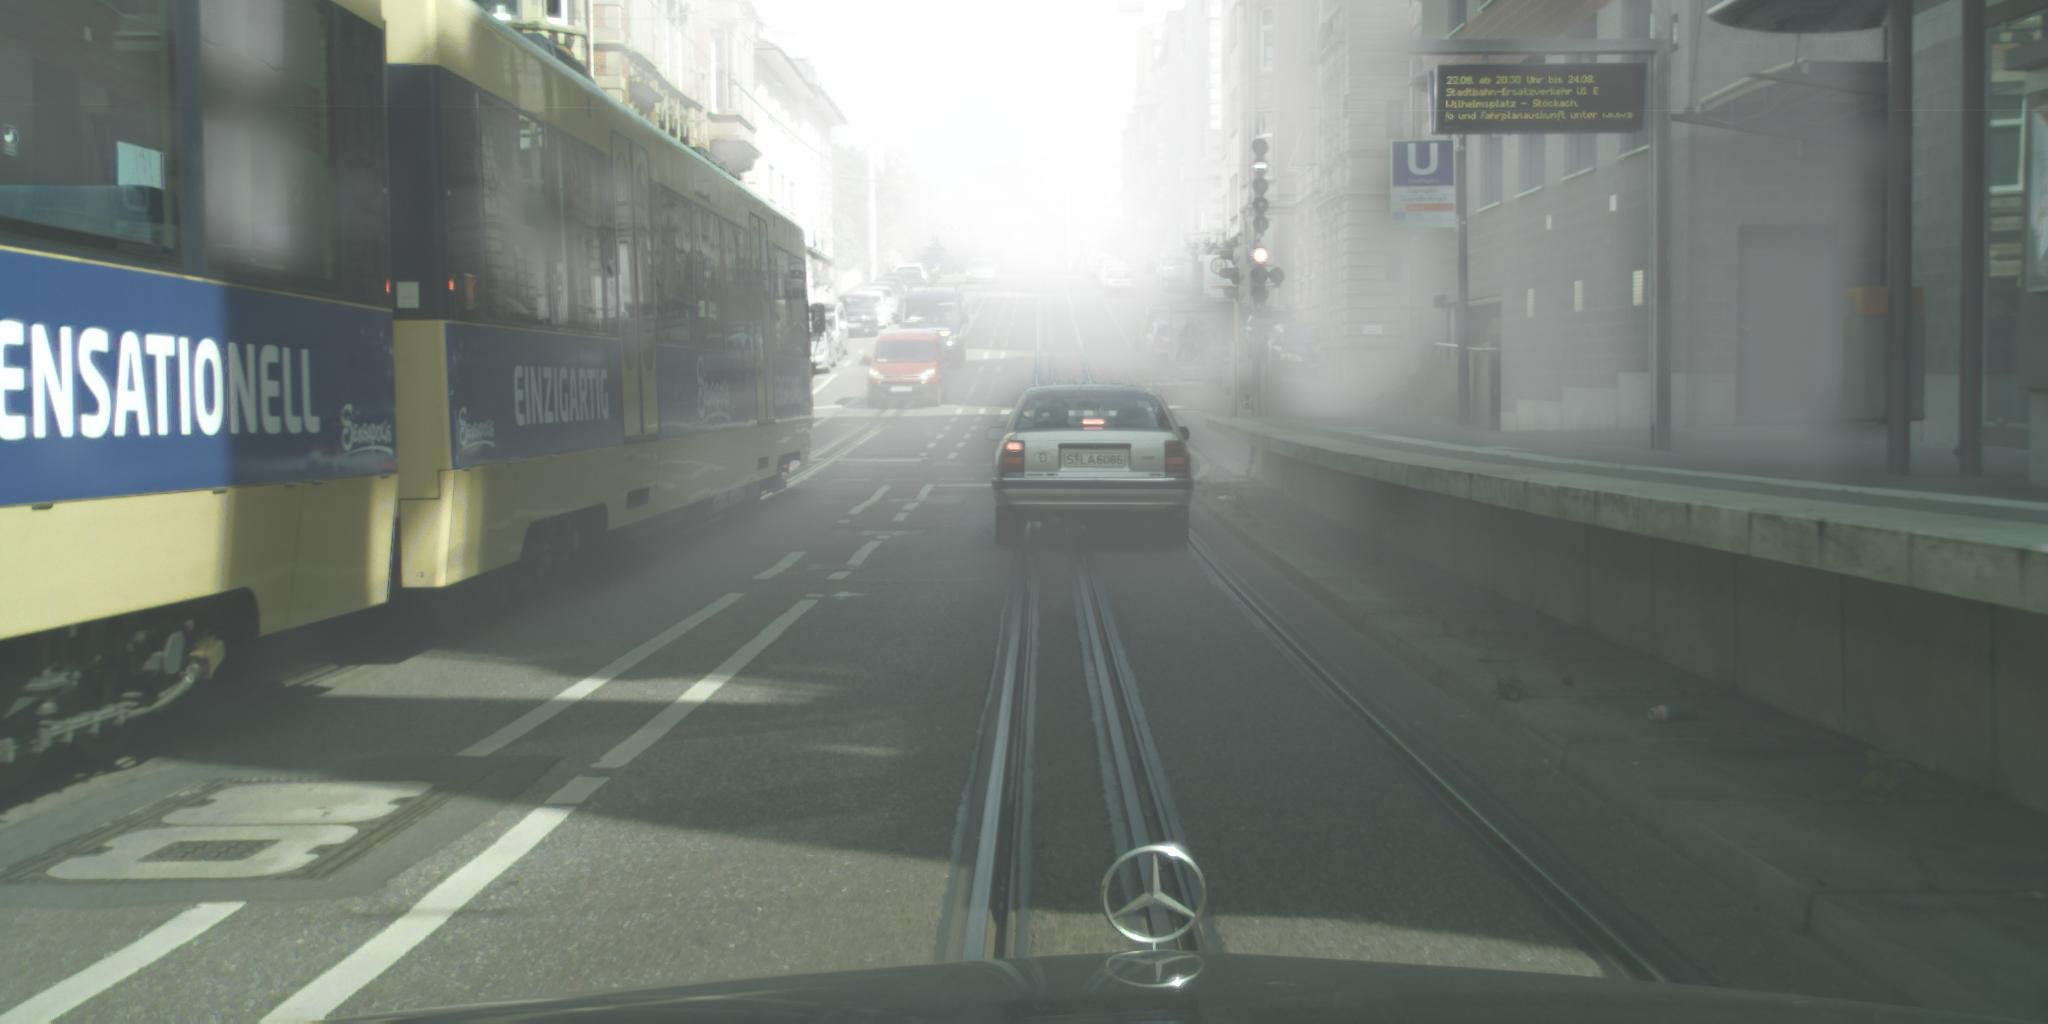car: (986, 384, 1194, 552), (862, 334, 950, 411), (893, 287, 970, 370), (1266, 324, 1320, 384), (1238, 312, 1304, 360), (802, 302, 850, 363), (1132, 307, 1177, 354), (833, 296, 879, 340), (1139, 321, 1176, 368), (849, 293, 893, 330), (803, 329, 839, 376), (856, 287, 899, 321), (1102, 270, 1138, 300), (964, 259, 1000, 287), (1155, 257, 1187, 287), (897, 263, 935, 287), (916, 259, 946, 285), (1098, 264, 1128, 290), (870, 282, 903, 306), (1143, 251, 1173, 276), (1089, 256, 1121, 280), (925, 249, 952, 276), (921, 253, 950, 276), (897, 272, 927, 293), (1097, 261, 1126, 282), (918, 256, 946, 277), (1037, 263, 1066, 278), (1083, 253, 1102, 276), (883, 274, 906, 293), (882, 277, 906, 293), (1078, 259, 1091, 276), (946, 256, 956, 276)
train: (1, 1, 825, 795)
